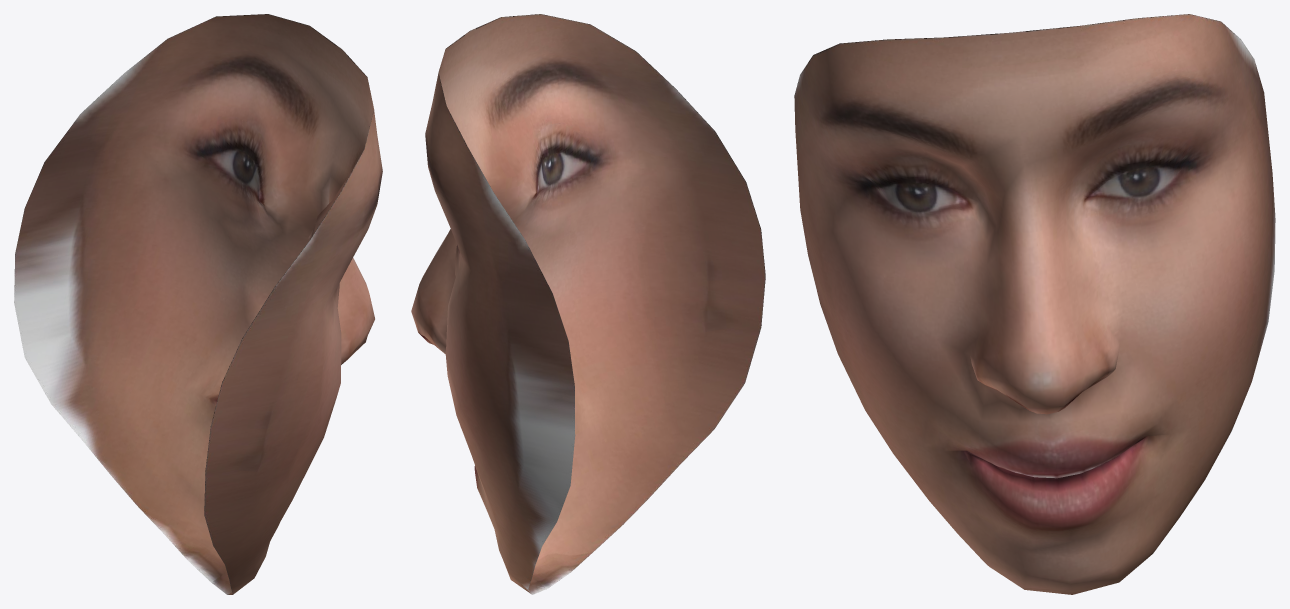
The model's file is youtube_beauty.glb.
3 renders of one model, left to right at view 1: azimuth 30°, elevation 25°; view 2: azimuth 150°, elevation 25°; view 3: azimuth 270°, elevation 25°, orthographic. The views are drawn at different scales.
Visible parts, largest first — view 1: youtube_beauty; view 2: youtube_beauty; view 3: youtube_beauty.
Part boxes in pixels (x1,y1,x2,y2): youtube_beauty: (14,14,382,594); youtube_beauty: (411,14,765,594); youtube_beauty: (794,14,1275,594).
Size of the model in its own units: 0.4401 by 0.8659 by 0.6019.
Materials: 1 (1 with a texture image).
